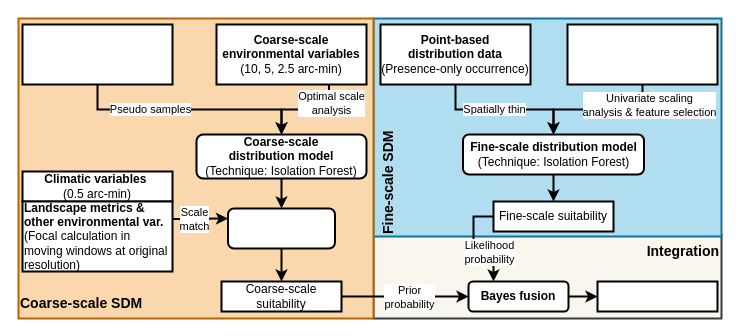
Some shapes in this 739 by 336 pixel diagram are drawn without their labels. Here are the shapes that lost their labels. From the top down, the box of each, then its label:
(21, 23, 173, 85): Polygon-based distribution data (Expert range map and census blocks)
(566, 23, 718, 85): Fine-scale environmental variables (0.5 arc-min)
(226, 207, 336, 249): Projection at landscape scale
(596, 280, 718, 312): Environmental suitability
